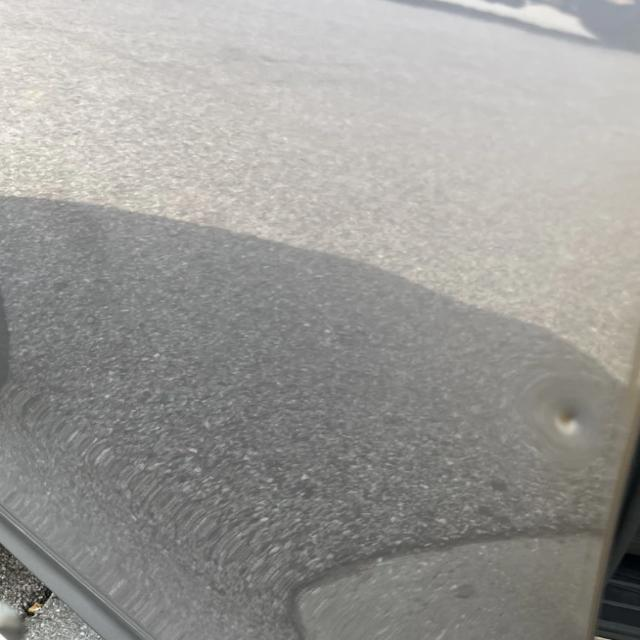dents: (544, 395, 607, 456)
